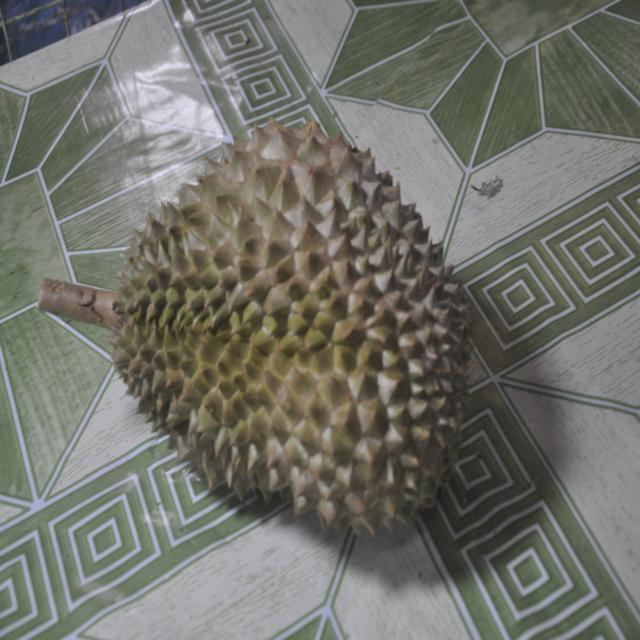mature: (111, 119, 470, 533)
